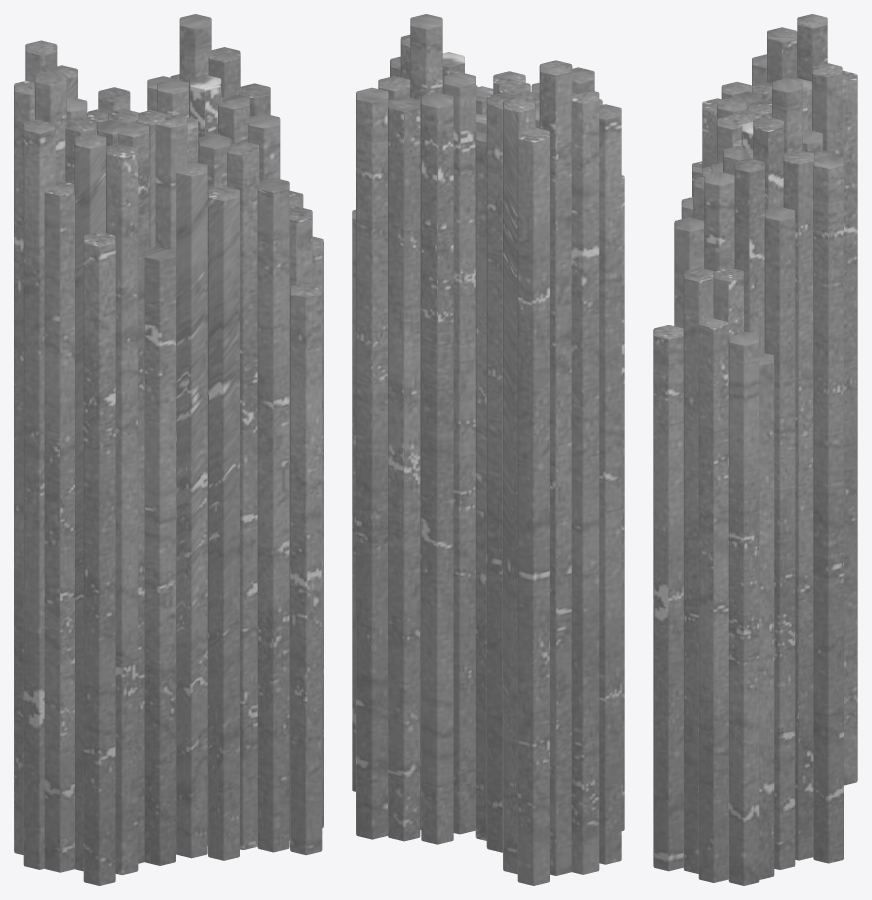
File: basalt-clump-1.glb
The picture shows the model from 3 angles, left to right: view 1: azimuth 30°, elevation 25°; view 2: azimuth 150°, elevation 25°; view 3: azimuth 270°, elevation 25°; orthographic projection. The views are drawn at different scales.
Visible parts, largest first — view 1: Merged Geometry_n3d; view 2: Merged Geometry_n3d; view 3: Merged Geometry_n3d.
Part boxes in pixels (bbox=[...]): Merged Geometry_n3d: bbox=[14, 14, 323, 885]; Merged Geometry_n3d: bbox=[352, 14, 624, 885]; Merged Geometry_n3d: bbox=[653, 14, 857, 885].
Bounding box in the file's own units: 0.5659 × 1.54 × 0.3771.
1 material, 1 textured.
